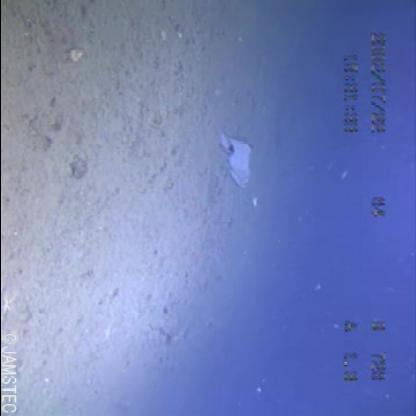Rác: (213, 122, 261, 216)
